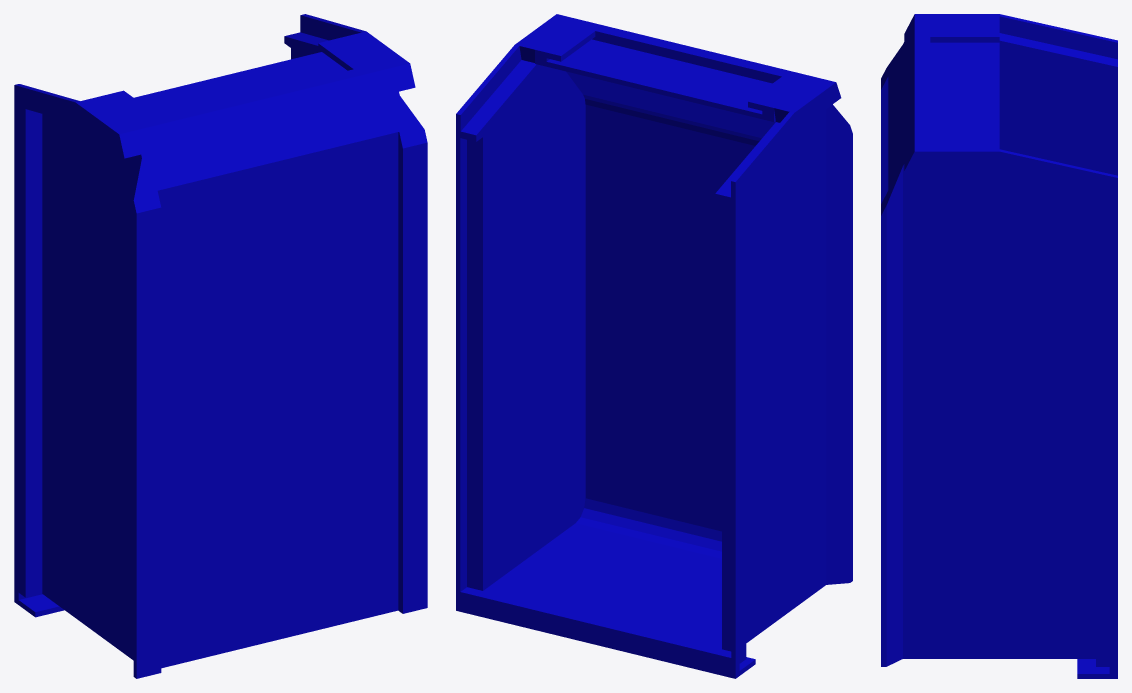
File: blue_bin.dae
The picture shows the model from 3 angles, left to right: view 1: azimuth 30°, elevation 25°; view 2: azimuth 150°, elevation 25°; view 3: azimuth 270°, elevation 25°; orthographic projection. The views are drawn at different scales.
Parts seen in each view (by area): view 1: Rack_Bin_SLDPRT; view 2: Rack_Bin_SLDPRT; view 3: Rack_Bin_SLDPRT.
Boxes of the visible parts, x1,y1,x2,y2 form: Rack_Bin_SLDPRT: (14, 14, 427, 678); Rack_Bin_SLDPRT: (456, 14, 852, 678); Rack_Bin_SLDPRT: (881, 14, 1117, 678).
Size of the model in its own units: 0.1048 by 0.0762 by 0.1873.
